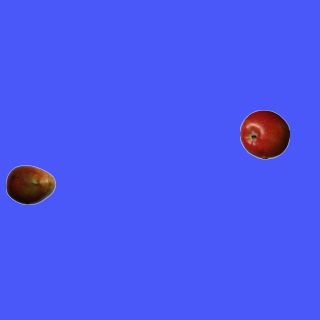Apple Braeburn: (239, 109, 289, 159)
Mango Red: (5, 159, 55, 209)
